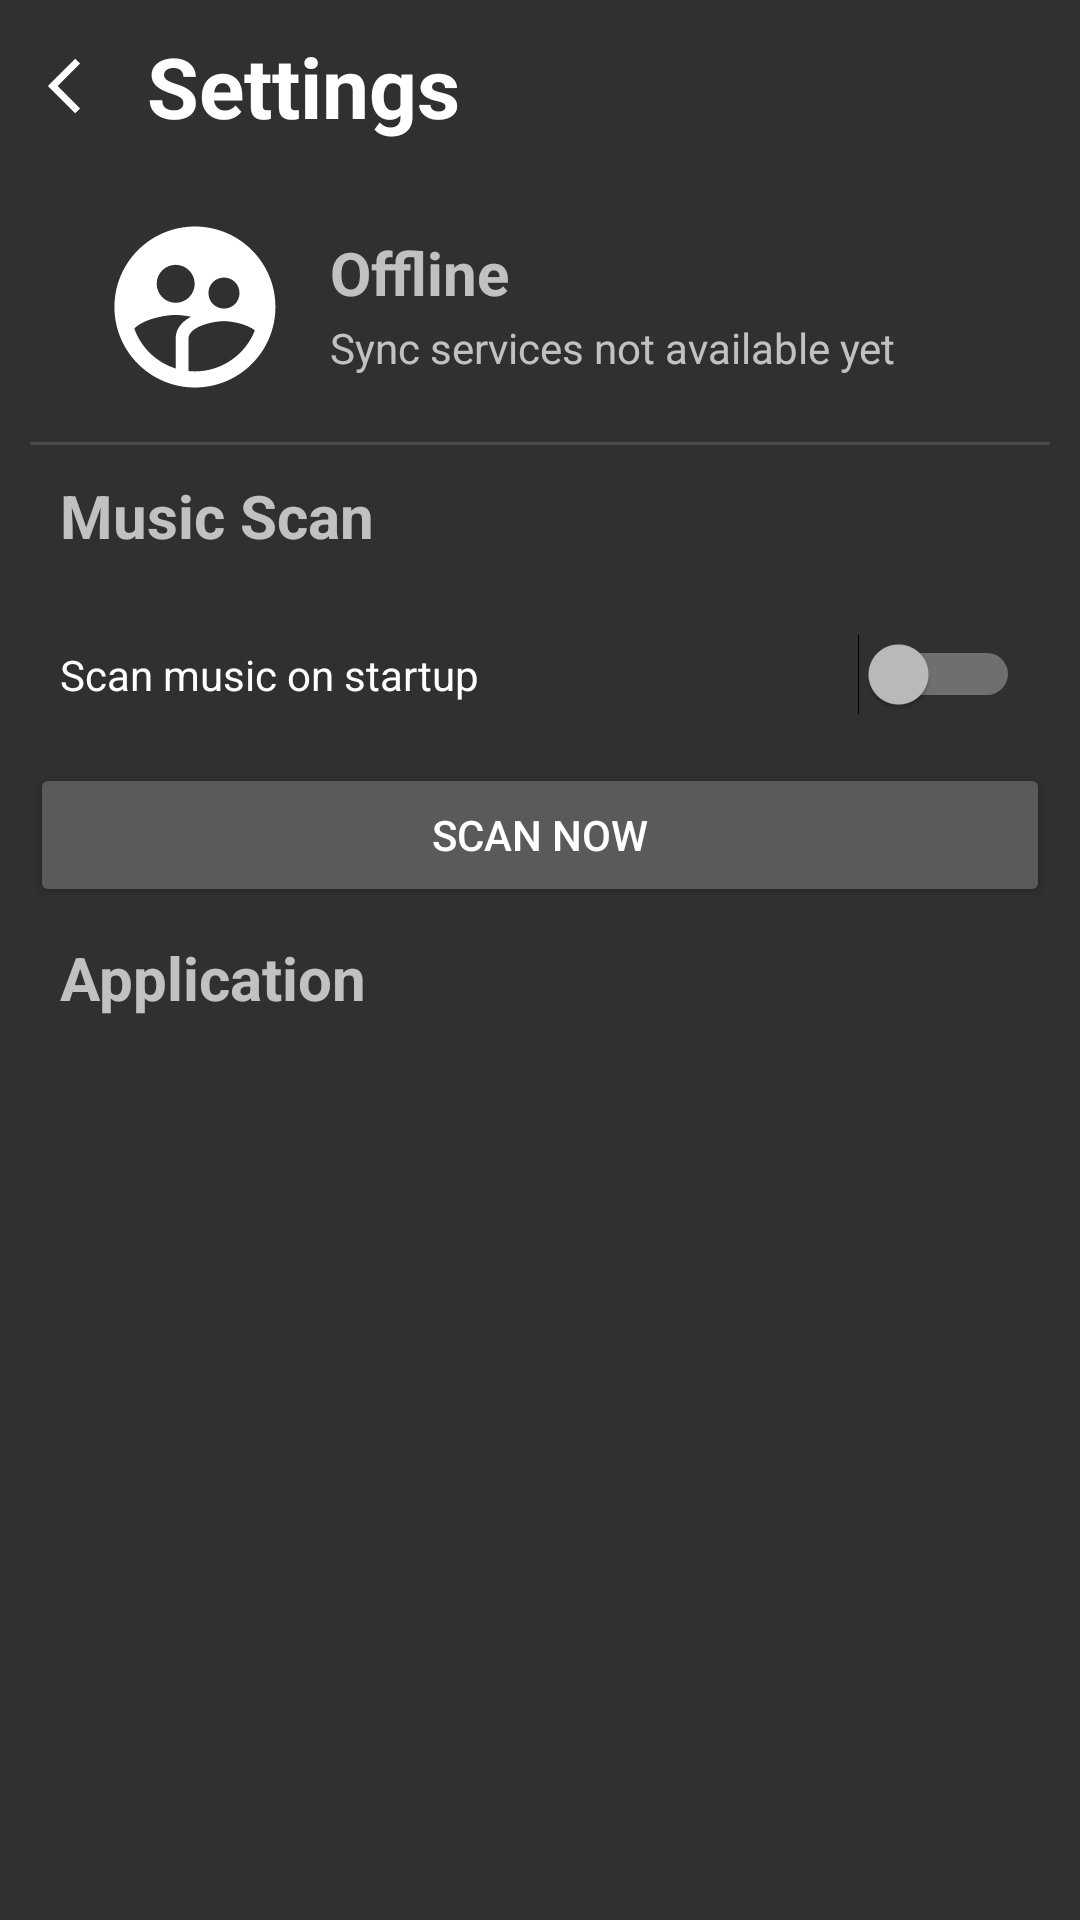

Named icons in this screenshot (1080x1920) and their bounding boxes, (x1, y1, x2, y2):
back: (48, 59, 80, 113)
user: (114, 226, 276, 388)
